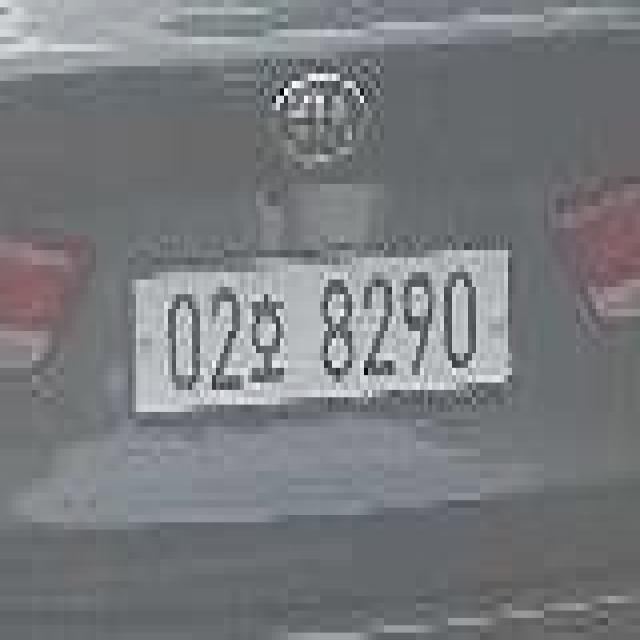illegal_plate: (126, 246, 514, 424)
